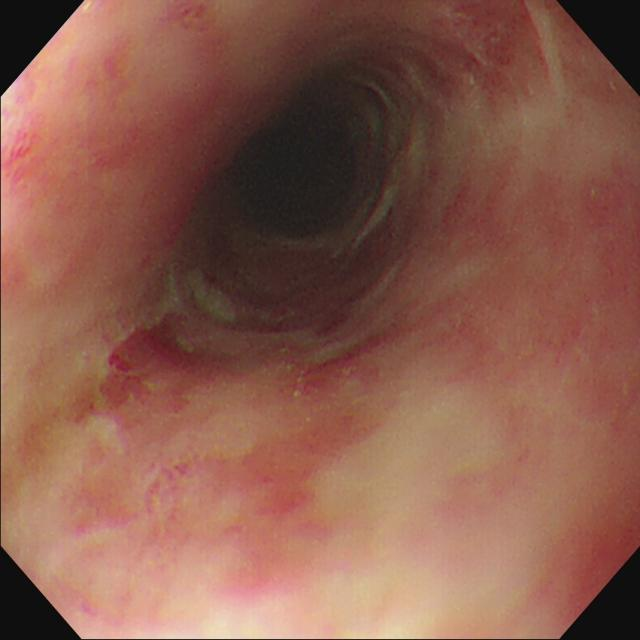A: (447, 2, 551, 86), (299, 334, 394, 395), (2, 109, 67, 193), (166, 2, 220, 39)
C: (109, 320, 191, 377)
E: (237, 103, 352, 239)
J: (186, 280, 243, 324)
